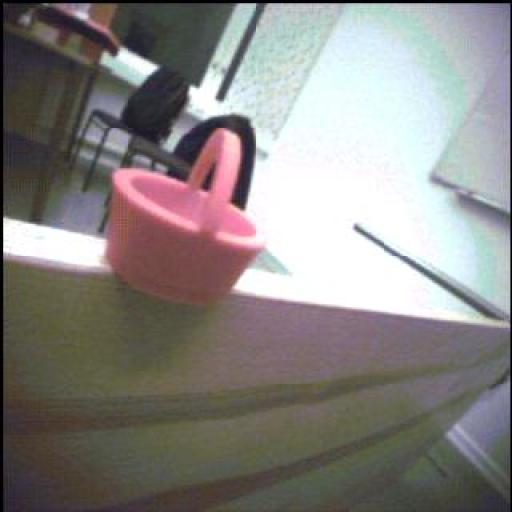Bucket: (104, 127, 269, 307)
